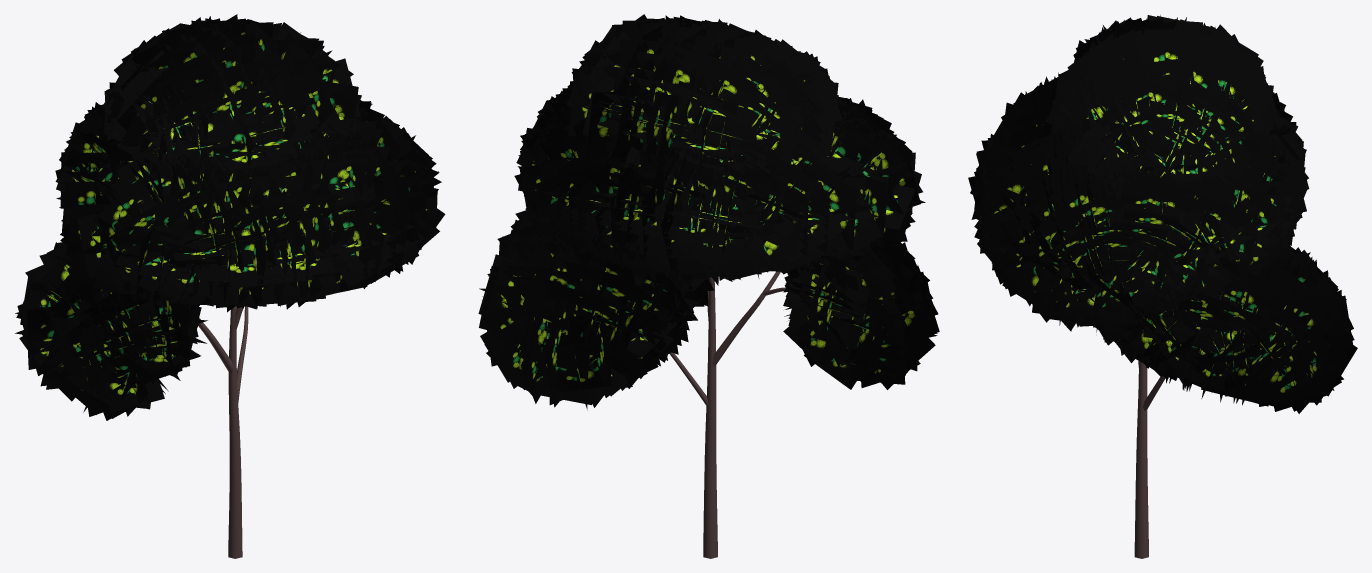
The picture shows the model from 3 angles, left to right: view 1: azimuth 30°, elevation 25°; view 2: azimuth 150°, elevation 25°; view 3: azimuth 270°, elevation 25°; orthographic projection. The views are drawn at different scales.
Parts seen in each view (by area): view 1: Plane.562, tree; view 2: Plane.562, tree; view 3: Plane.562, tree.
Part boxes in pixels (<box>): Plane.562: <box>15,14,445,420</box>; tree: <box>198,232,250,558</box>; Plane.562: <box>478,14,939,410</box>; tree: <box>669,271,785,558</box>; Plane.562: <box>968,15,1357,413</box>; tree: <box>1134,360,1165,558</box>.
Size of the model in its own units: 542 by 688 by 470.
Materials: 2 (1 with a texture image).
